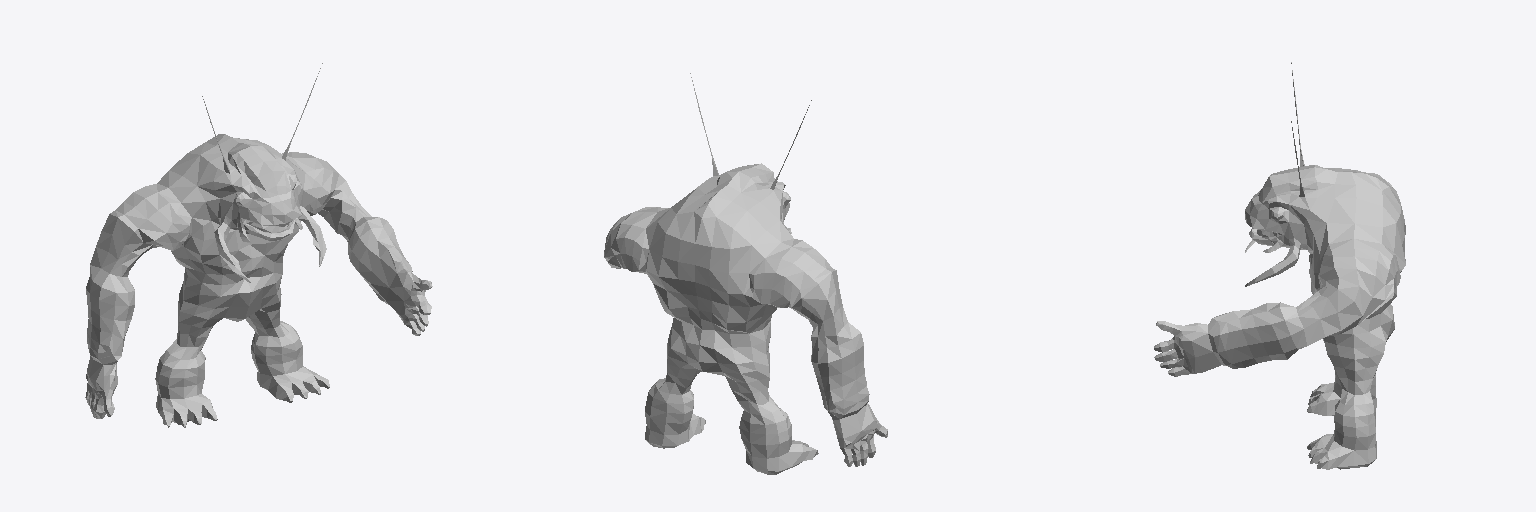
The model's file is Ataque4.obj.
3 renders of one model, left to right at view 1: azimuth 30°, elevation 25°; view 2: azimuth 150°, elevation 25°; view 3: azimuth 270°, elevation 25°, orthographic.
Visible parts, largest first — view 1: Umber_Hulk_2:Umber_Hulk_1; view 2: Umber_Hulk_2:Umber_Hulk_1; view 3: Umber_Hulk_2:Umber_Hulk_1.
Boxes of the visible parts, x1=… form: Umber_Hulk_2:Umber_Hulk_1: x1=85, y1=63, x2=432, y2=427; Umber_Hulk_2:Umber_Hulk_1: x1=604, y1=73, x2=887, y2=474; Umber_Hulk_2:Umber_Hulk_1: x1=1154, y1=62, x2=1405, y2=469.
Bounding box in the file's own units: 101 × 124 × 81.28.